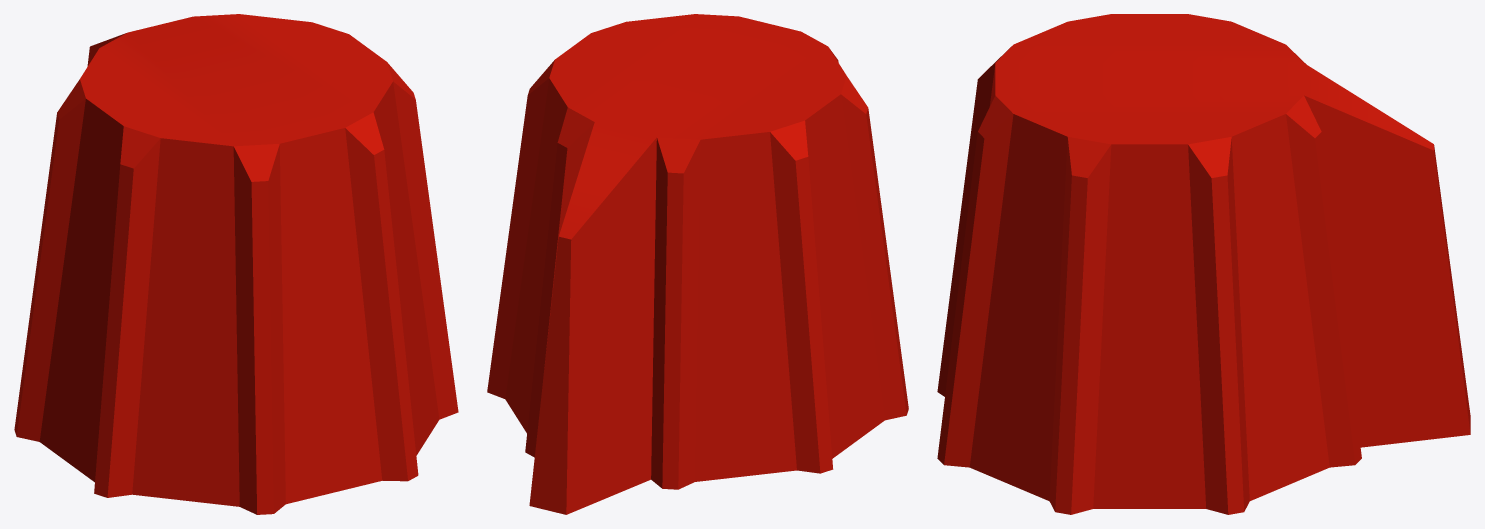
File: dial.gltf
The picture shows the model from 3 angles, left to right: view 1: azimuth 30°, elevation 25°; view 2: azimuth 150°, elevation 25°; view 3: azimuth 270°, elevation 25°; orthographic projection. The views are drawn at different scales.
Visible parts, largest first — view 1: dial; view 2: dial; view 3: dial.
Boxes of the visible parts, box(x1,y1,x2,y2) form: dial: box(14, 14, 458, 514); dial: box(487, 14, 908, 514); dial: box(937, 14, 1470, 514).
Size of the model in its own units: 1.98 by 1.78 by 2.49.
Materials: 1 (1 with a texture image).
